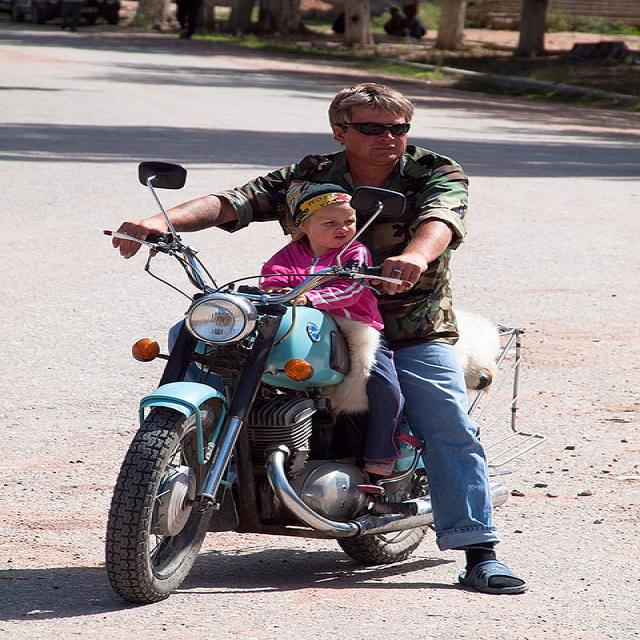motor: (109, 159, 443, 605)
